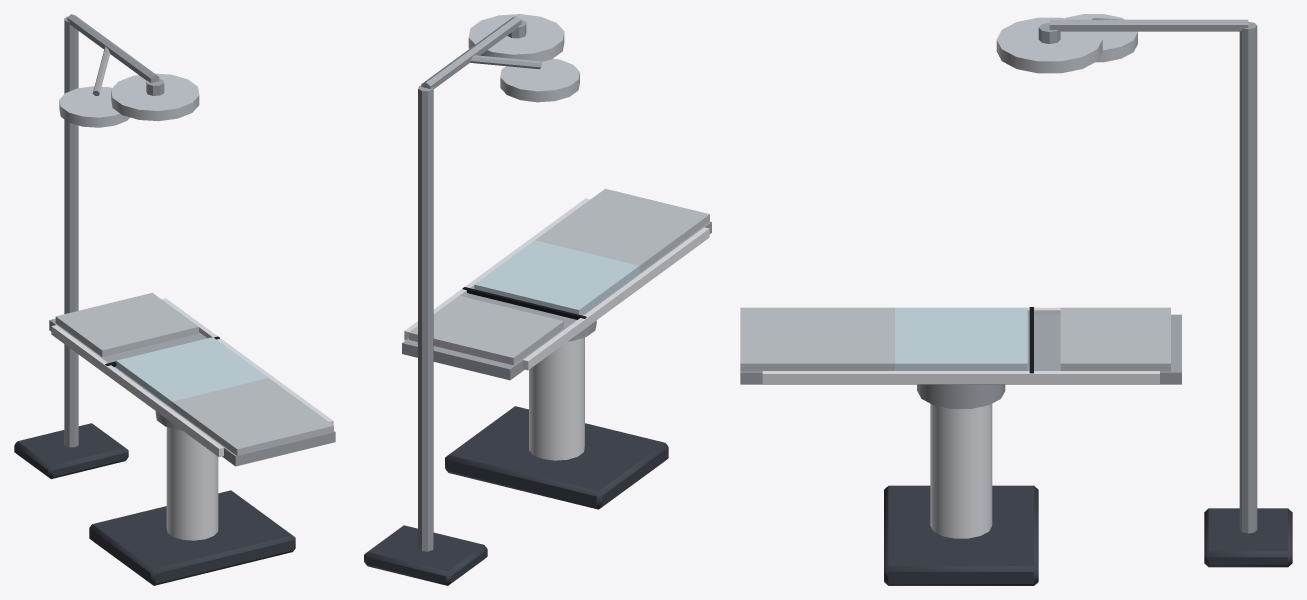
Rendered from medbed_surgical_table.glb.
The picture shows the model from 3 angles, left to right: view 1: azimuth 30°, elevation 25°; view 2: azimuth 150°, elevation 25°; view 3: azimuth 270°, elevation 25°; orthographic projection. The views are drawn at different scales.
Parts seen in each view (by area): view 1: medbed_surgical_table; view 2: medbed_surgical_table; view 3: medbed_surgical_table.
Part boxes in pixels (bbox=[...]): medbed_surgical_table: bbox=[14, 14, 335, 585]; medbed_surgical_table: bbox=[364, 14, 711, 585]; medbed_surgical_table: bbox=[740, 14, 1292, 585].
Size of the model in its own units: 0.9 by 2.63 by 2.5.
